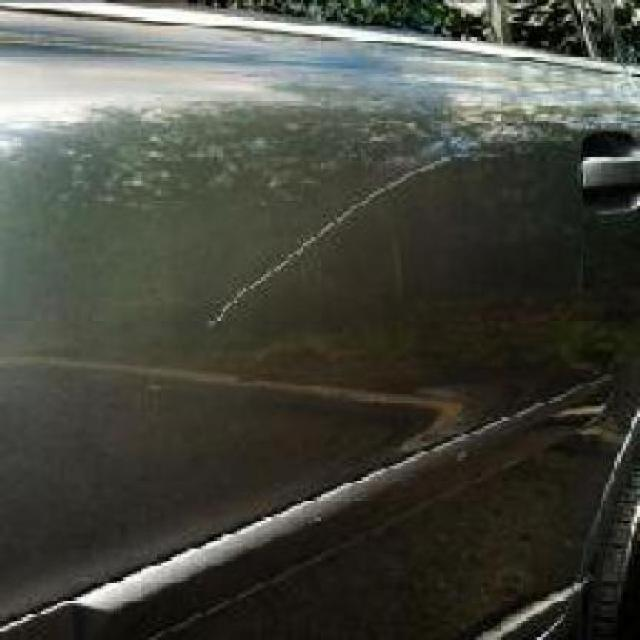dent-or-scratch: (205, 134, 482, 343)
